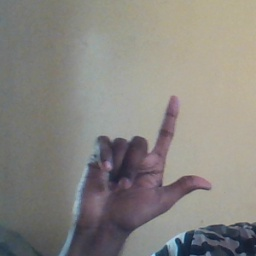L: (66, 94, 217, 228)
